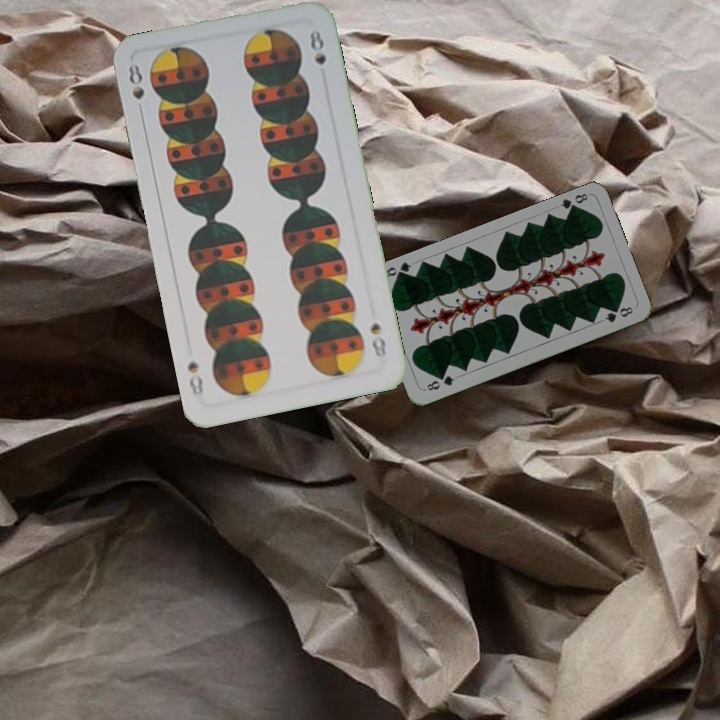G8: (556, 189, 591, 215), (422, 371, 457, 393)
S8: (122, 60, 147, 102), (366, 319, 389, 360)
